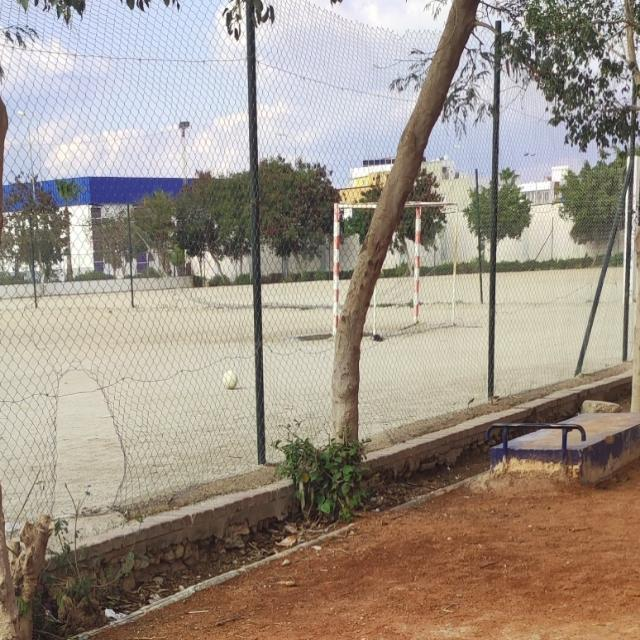fence line: (37, 363, 147, 552)
